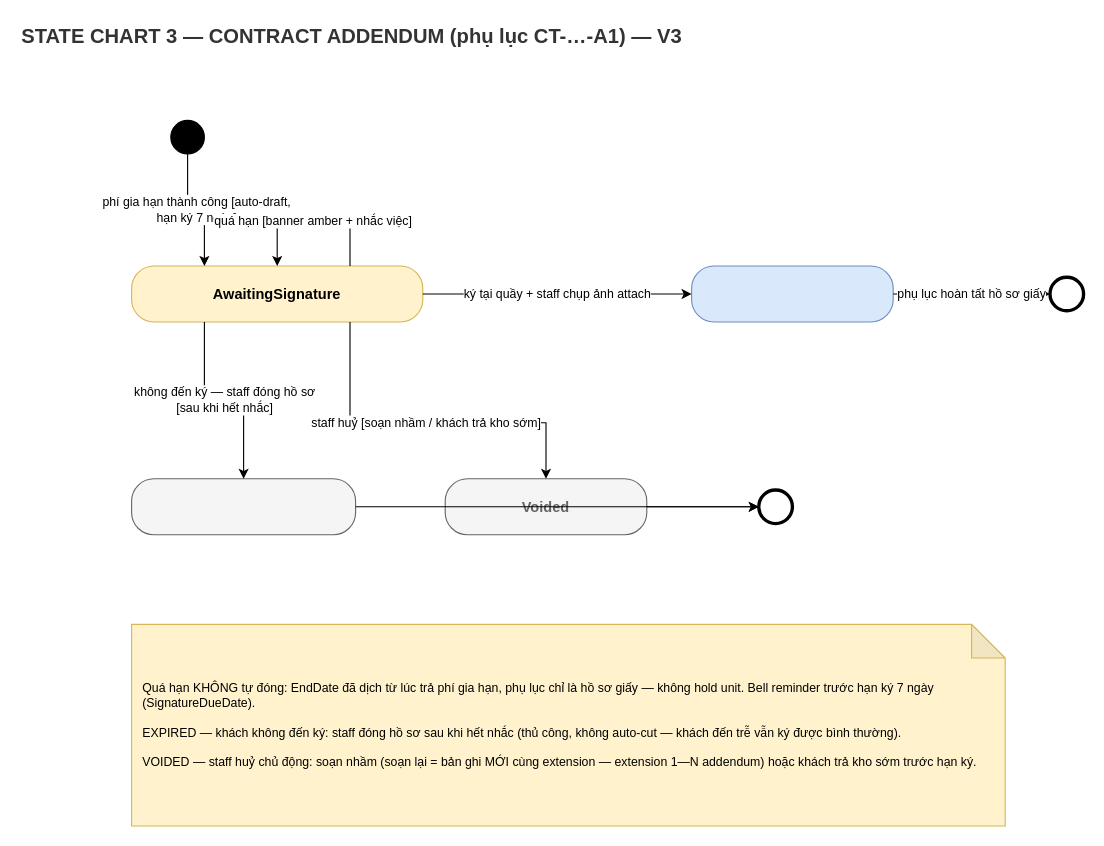
Some shapes in this 1104 by 846 pixel diagram are drawn without their labels. The shapes that lost their labels are listed below. From the top down, each one's centre as x and y in pixels, then its label:
At pixel 791 293: "Signed".
At pixel 243 506: "Expired".
